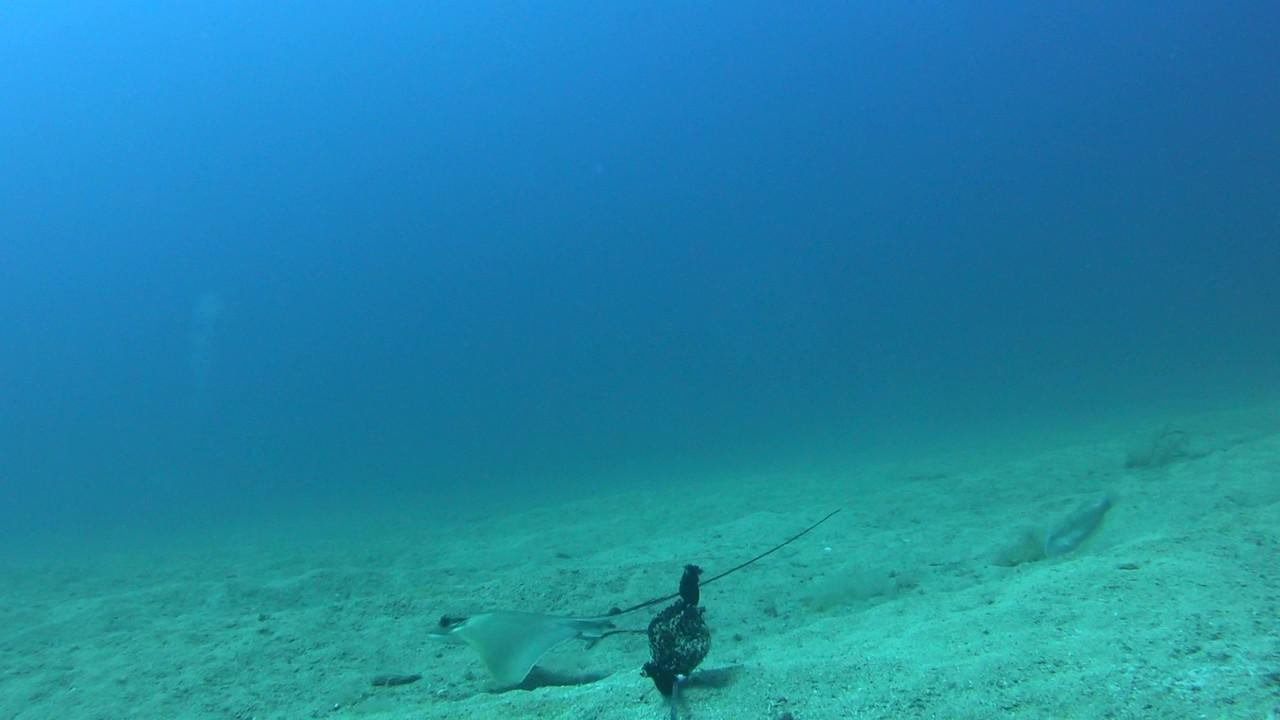myliobatis: (403, 487, 865, 692)
raor: (1044, 492, 1114, 562)
